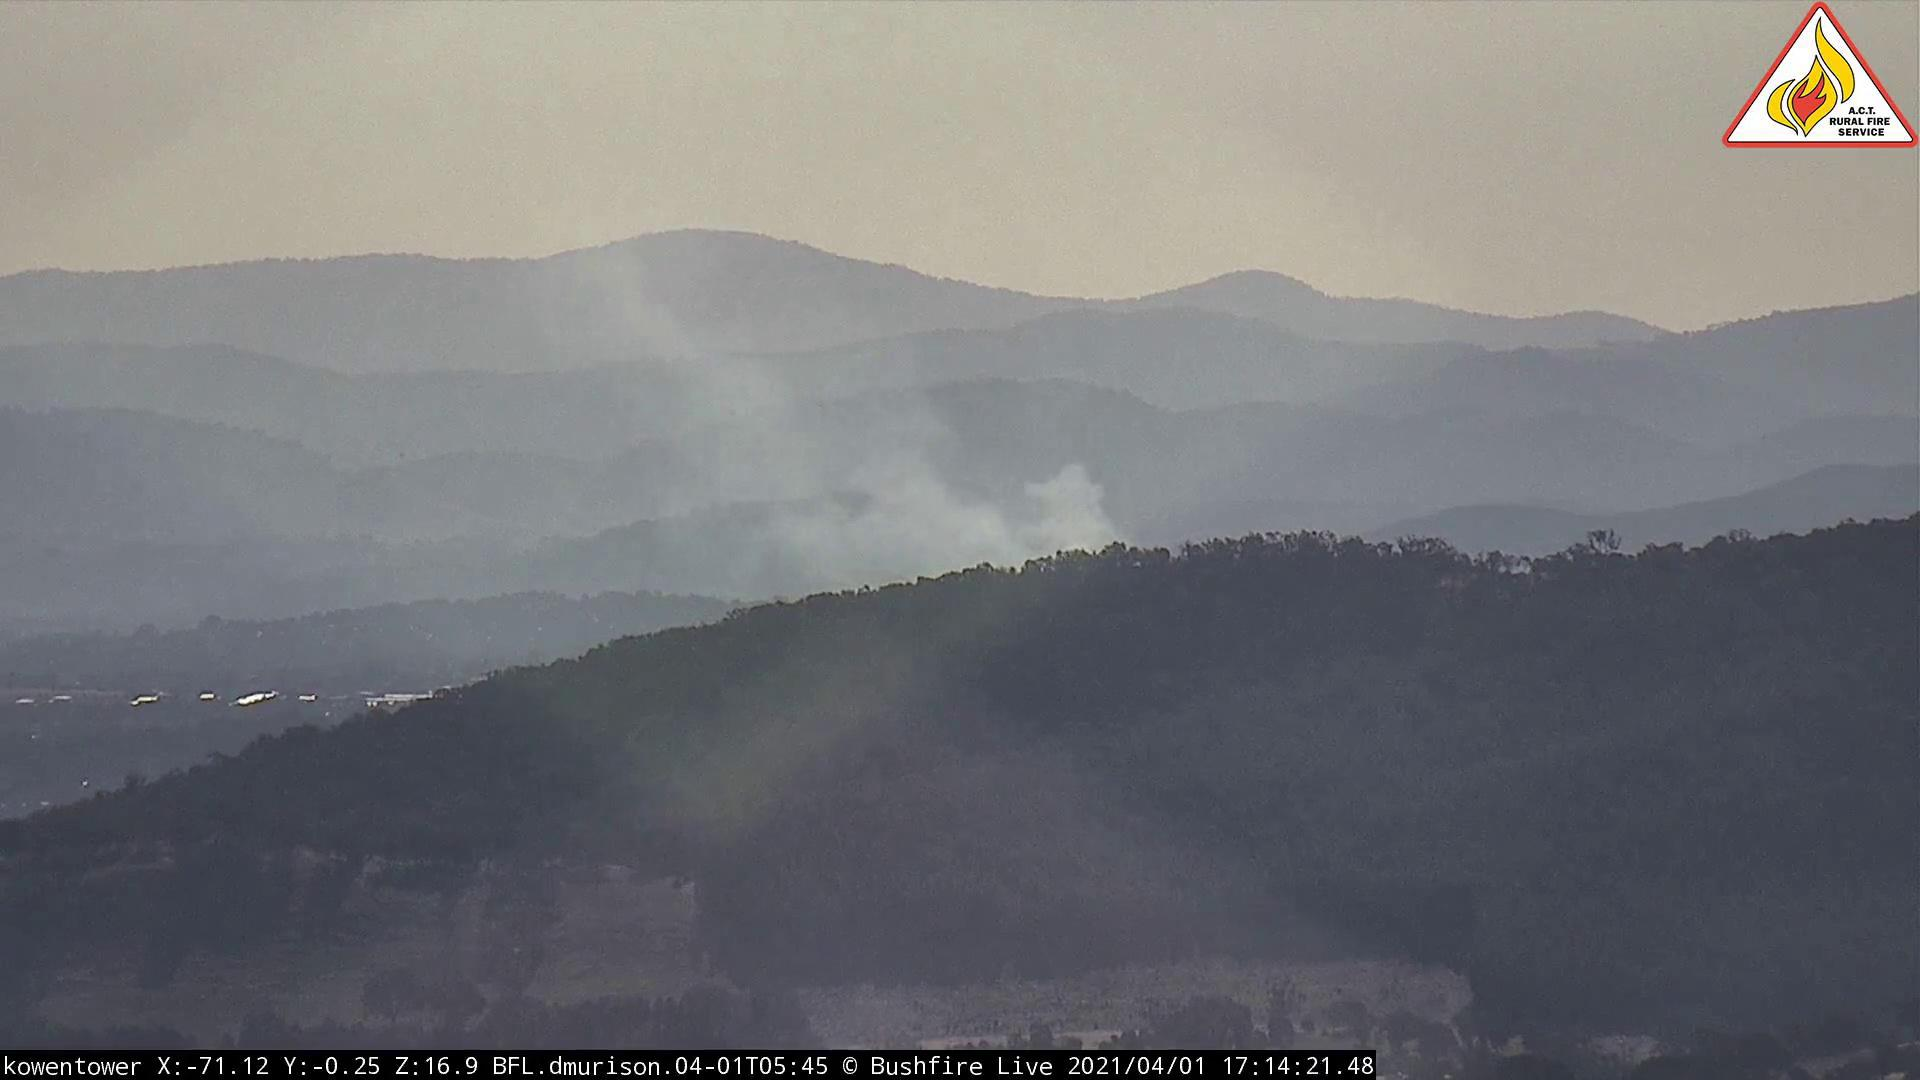Smoke: (550, 222, 1149, 640)
